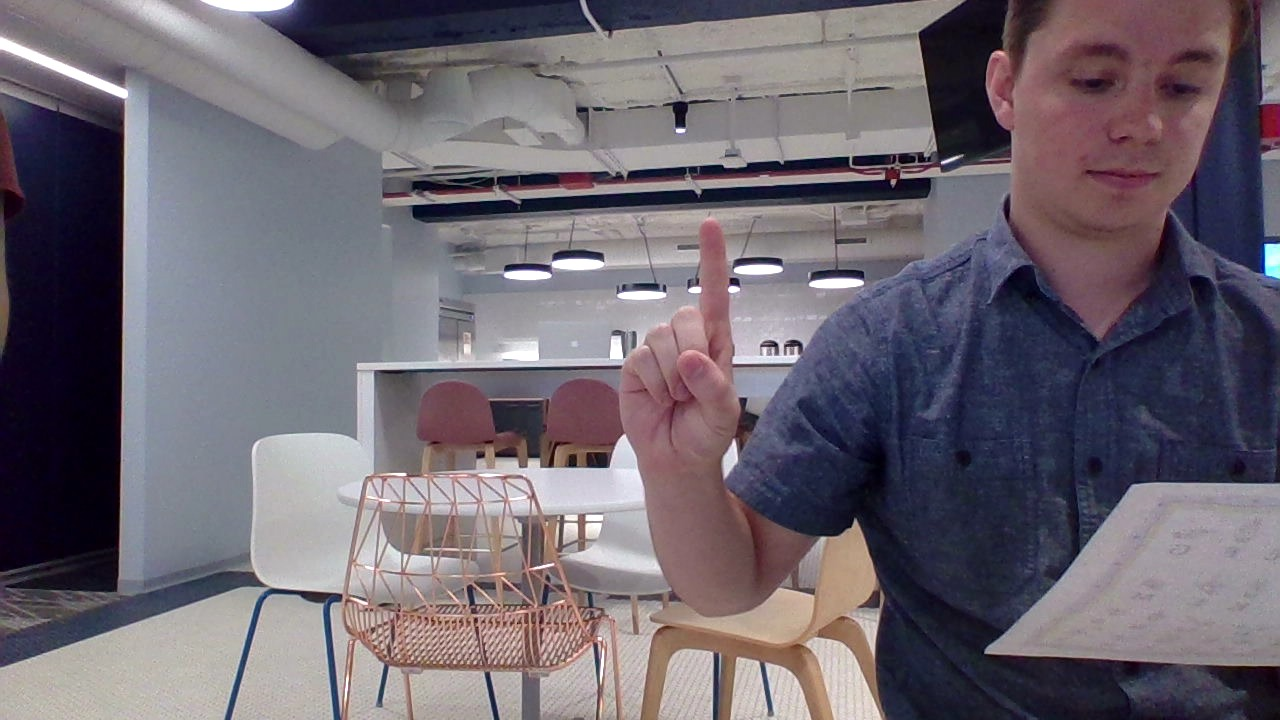d: (603, 202, 753, 485)
